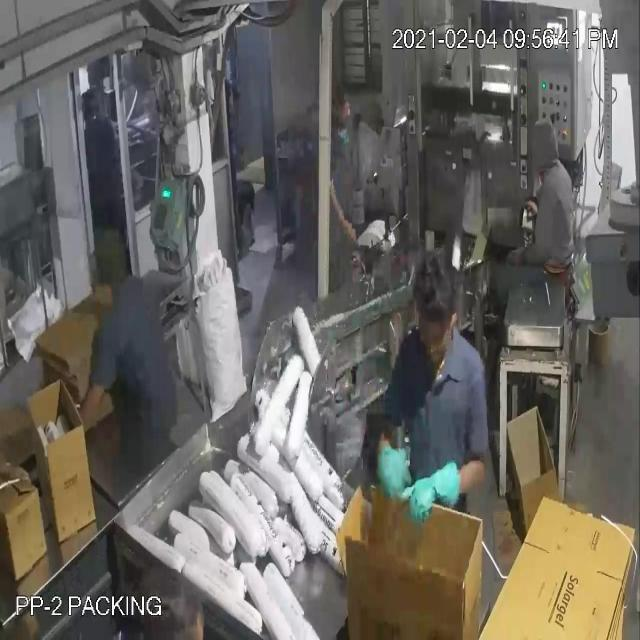No_Gloves: (37, 71, 449, 490)
